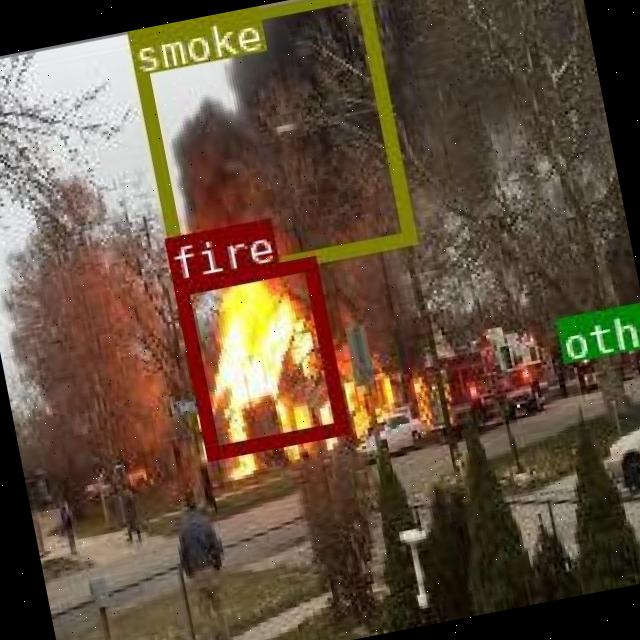fire: (172, 258, 346, 460)
smoke: (125, 0, 413, 286)
